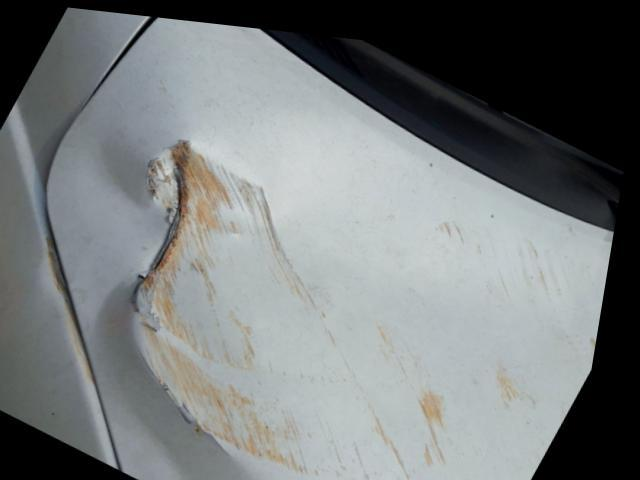dent: (69, 122, 275, 480)
scratch: (143, 131, 610, 467)
